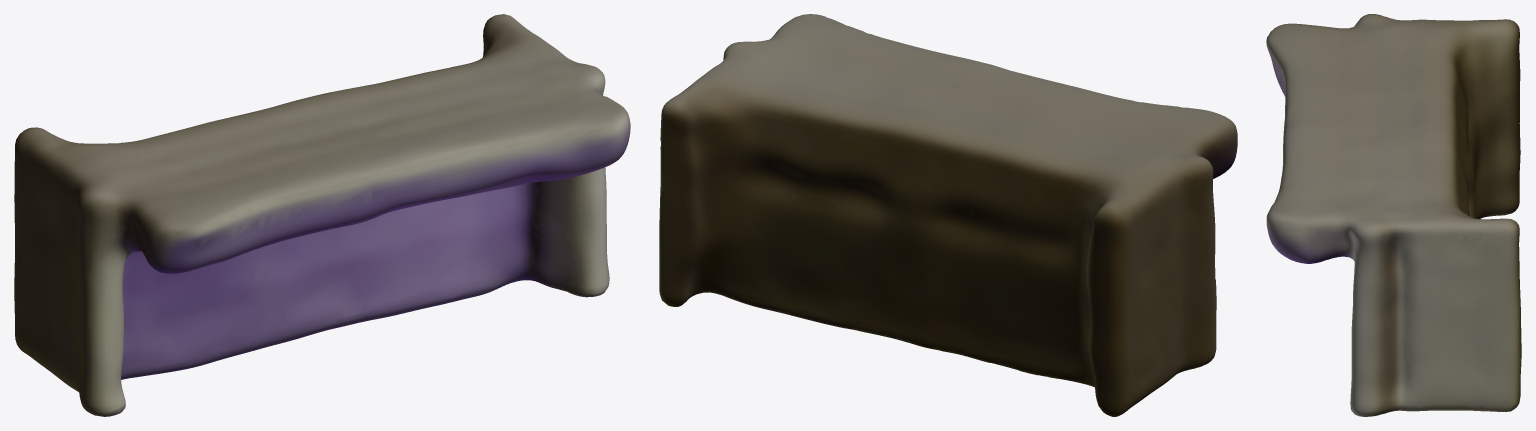
File: sofa.glb
3 renders of one model, left to right at view 1: azimuth 30°, elevation 25°; view 2: azimuth 150°, elevation 25°; view 3: azimuth 270°, elevation 25°, orthographic. The views are drawn at different scales.
Bounding box in the file's own units: 0.9995 × 0.4238 × 0.4861.
